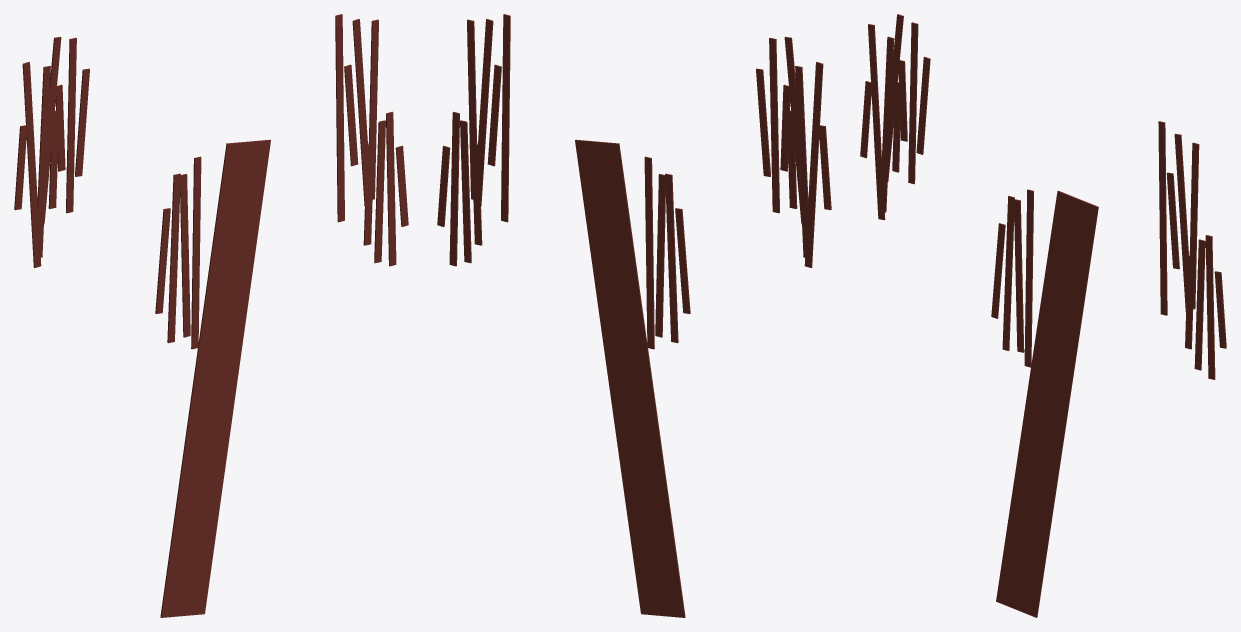
The model's file is wall_bloodsmear.glb.
3 renders of one model, left to right at view 1: azimuth 30°, elevation 25°; view 2: azimuth 150°, elevation 25°; view 3: azimuth 330°, elevation 25°, orthographic. The views are drawn at different scales.
Visible parts, largest first — view 1: wall_bloodsmear; view 2: wall_bloodsmear; view 3: wall_bloodsmear.
Part boxes in pixels (left/top/right/bottom): wall_bloodsmear: left=14, top=14, right=408, bottom=617; wall_bloodsmear: left=437, top=14, right=831, bottom=617; wall_bloodsmear: left=860, top=14, right=1226, bottom=617.
Size of the model in its own units: 1.07 by 1.59 by 0.004.
